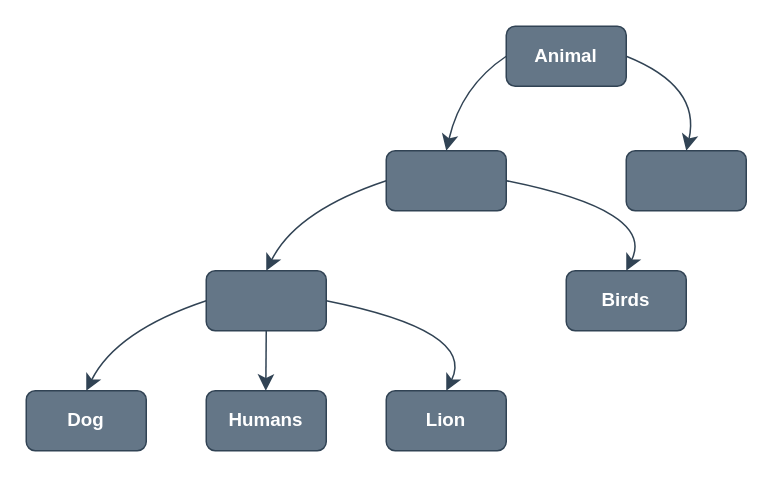
Some shapes in this 773 by 477 pixel diagram are drawn without their labels. Each missing label, with the centre of its shape:
"Invertebrates" belongs at pixel 685 180.
"Mammals" belongs at pixel 265 300.
"Vertebrates" belongs at pixel 445 180.
